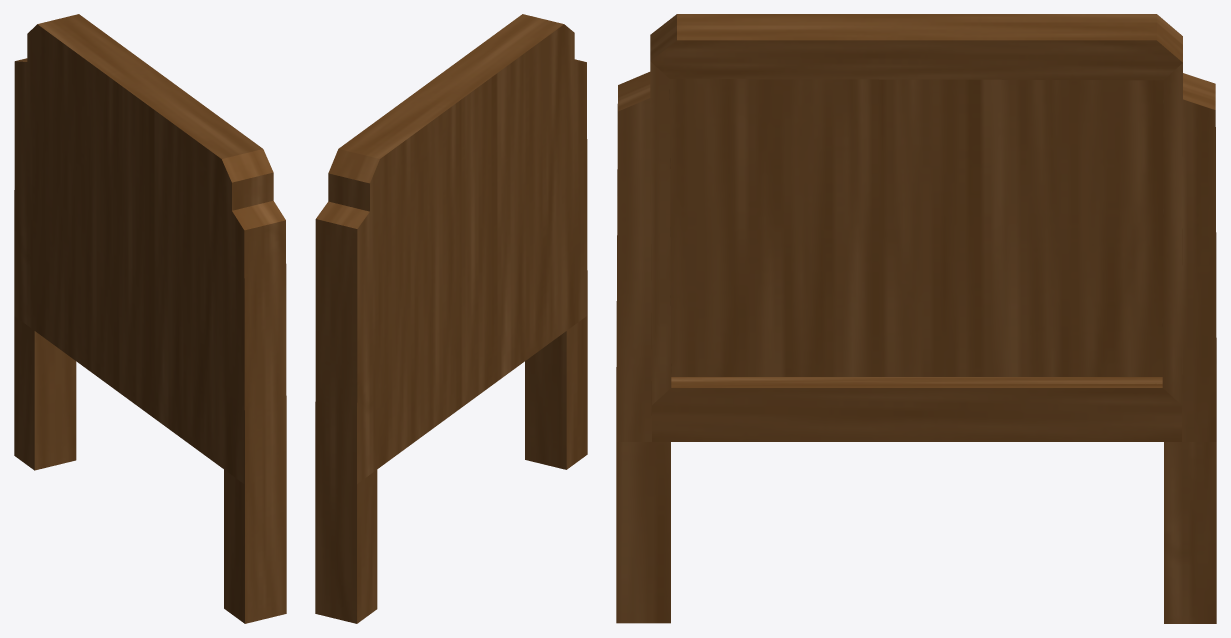
File: Board 1.fbx
3 renders of one model, left to right at view 1: azimuth 30°, elevation 25°; view 2: azimuth 150°, elevation 25°; view 3: azimuth 270°, elevation 25°, orthographic. The views are drawn at different scales.
Visible parts, largest first — view 1: Board_1; view 2: Board_1; view 3: Board_1.
Boxes of the visible parts, x1,y1,x2,y2 form: Board_1: [14, 14, 286, 623]; Board_1: [315, 14, 587, 623]; Board_1: [616, 14, 1216, 623].
Bounding box in the file's own units: 22.73 × 234 × 218.
Materials: 1 (1 with a texture image).
